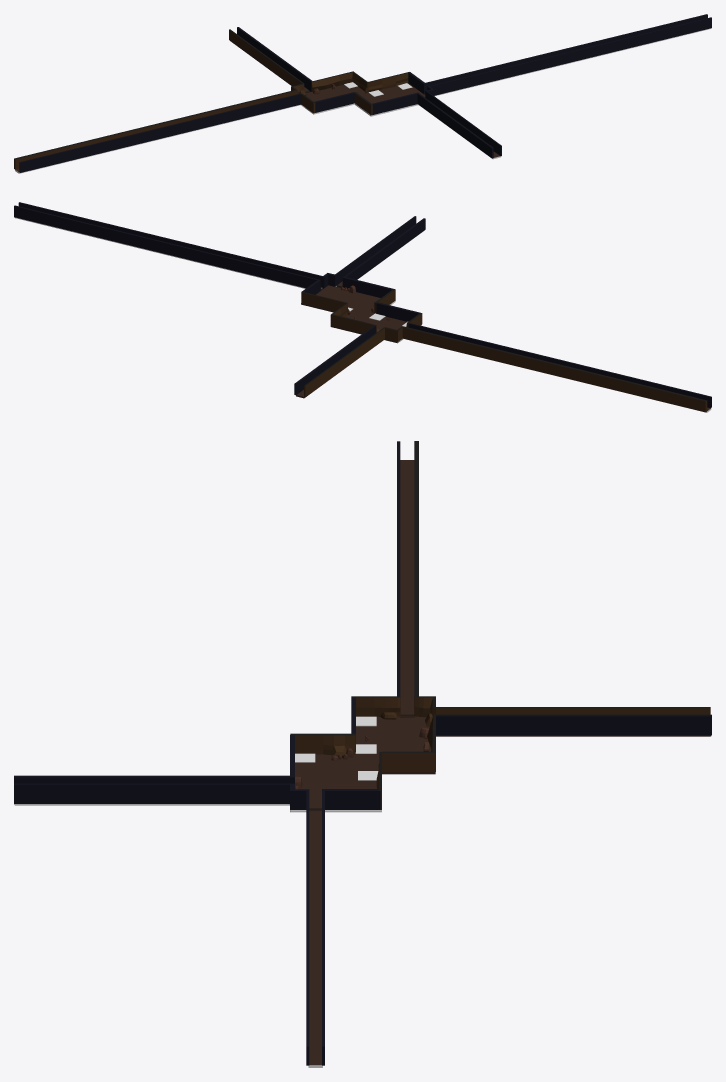
File: sala15DET.fbx
3 renders of one model, top to bottom at view 1: azimuth 30°, elevation 25°; view 2: azimuth 150°, elevation 25°; view 3: azimuth 270°, elevation 25°, orthographic. The views are drawn at different scales.
Parts seen in each view (by area): view 1: paredes_der_abajo15, paredes_izq_arriba15, suelo16; view 2: paredes_der_abajo15, paredes_izq_arriba15, suelo16; view 3: paredes_der_abajo15, suelo16, paredes_izq_arriba15.
Part boxes in pixels (x1,y1,x2,y2): paredes_der_abajo15: [19, 14, 711, 172]; paredes_izq_arriba15: [14, 29, 409, 169]; suelo16: [15, 28, 711, 173]; paredes_der_abajo15: [14, 202, 711, 408]; paredes_izq_arriba15: [301, 289, 707, 412]; suelo16: [14, 217, 711, 412]; paredes_der_abajo15: [14, 441, 711, 1065]; suelo16: [14, 460, 711, 1067]; paredes_izq_arriba15: [290, 441, 710, 809].
Size of the model in its own units: 40845 by 672 by 19893.
